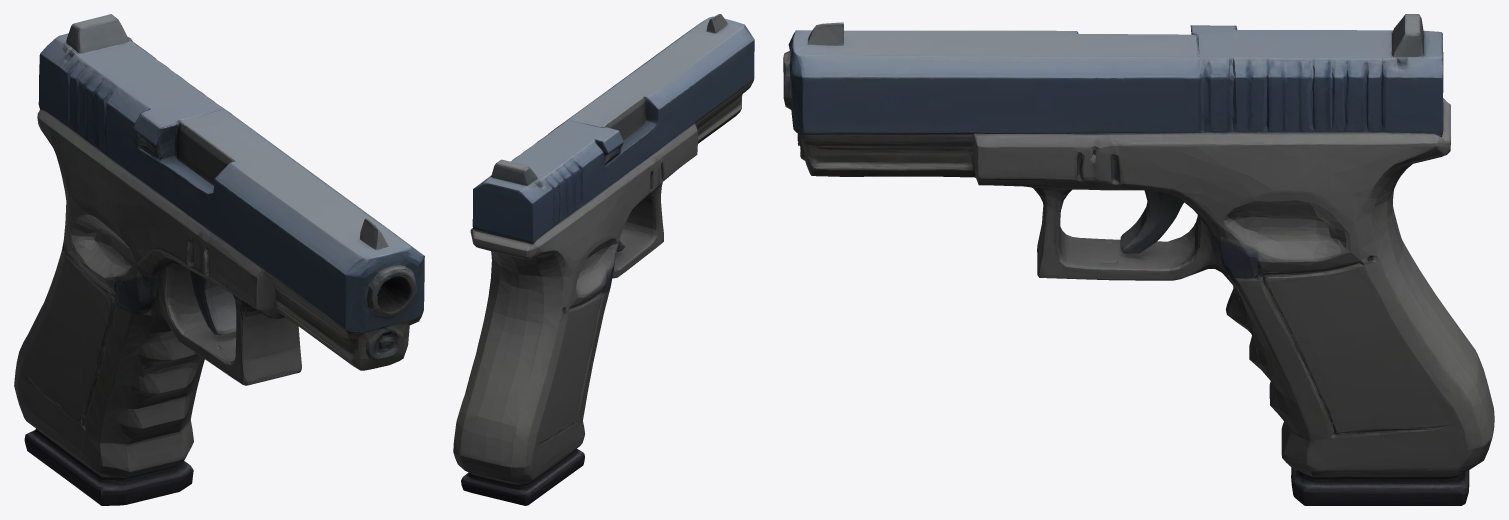
Rendered from sidearm.glb.
3 views of the same model, side by side, from view 1: azimuth 30°, elevation 25°; view 2: azimuth 150°, elevation 25°; view 3: azimuth 270°, elevation 25° (orthographic). The views are drawn at different scales.
Parts seen in each view (by area): view 1: world; view 2: world; view 3: world.
Boxes of the visible parts, x1,y1,x2,y2 form: world: (14, 14, 424, 505); world: (453, 14, 754, 505); world: (783, 14, 1494, 505).
Size of the model in its own units: 0.192 by 0.7135 by 0.9993.
1 material, 1 textured.
